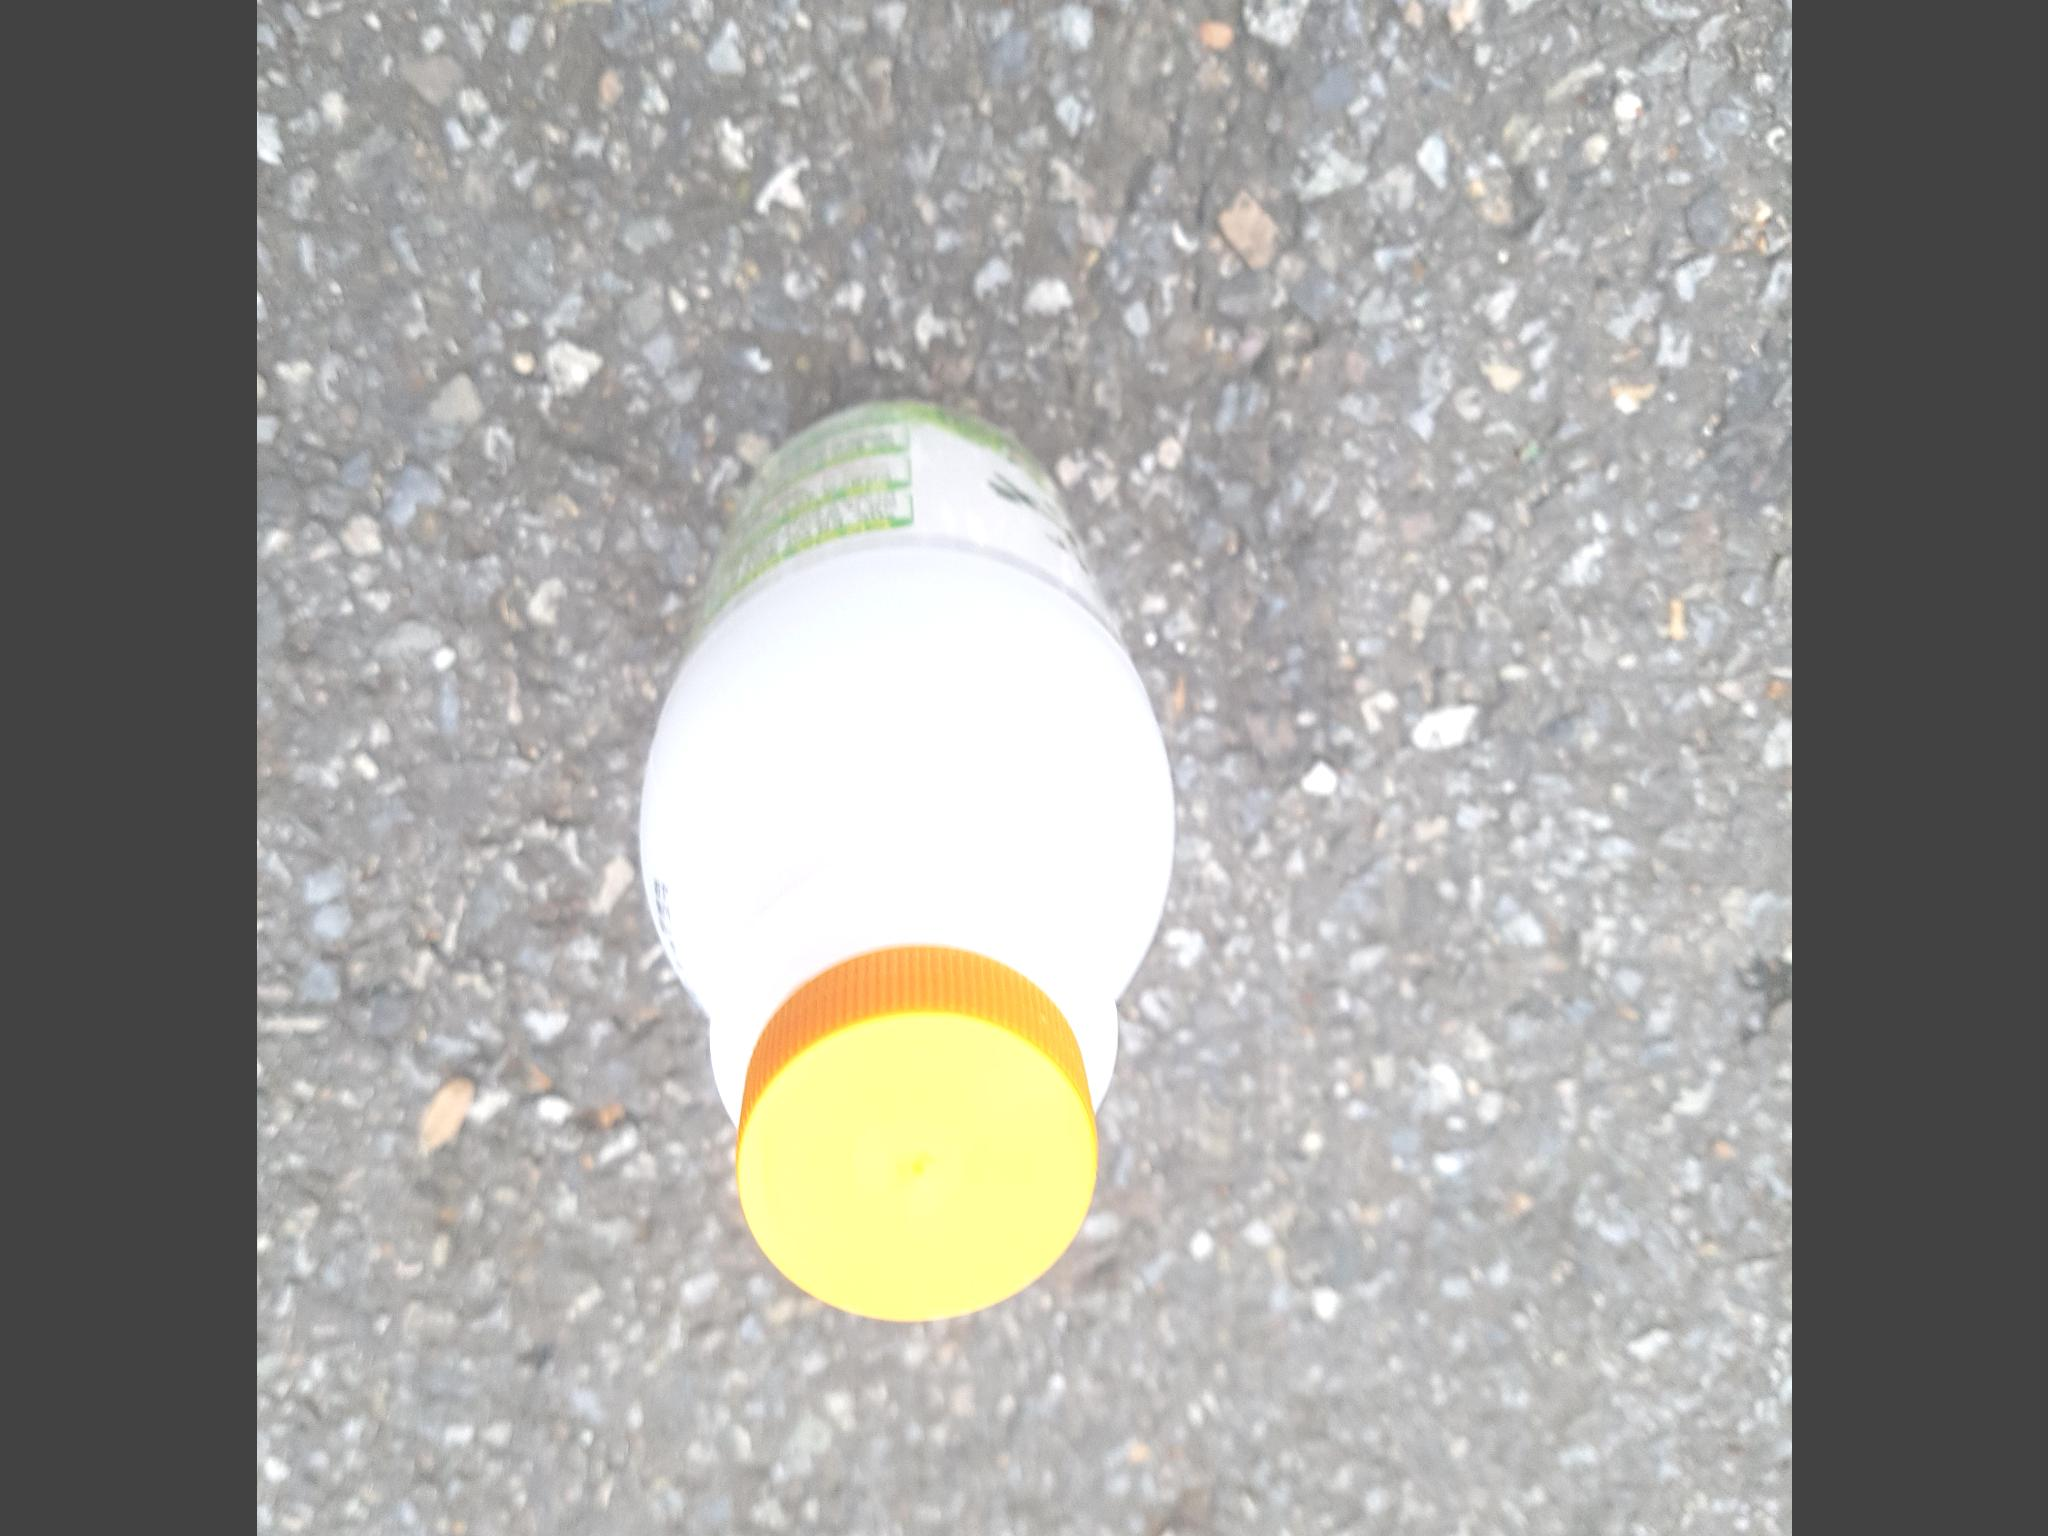bottle: (590, 355, 1318, 1326)
